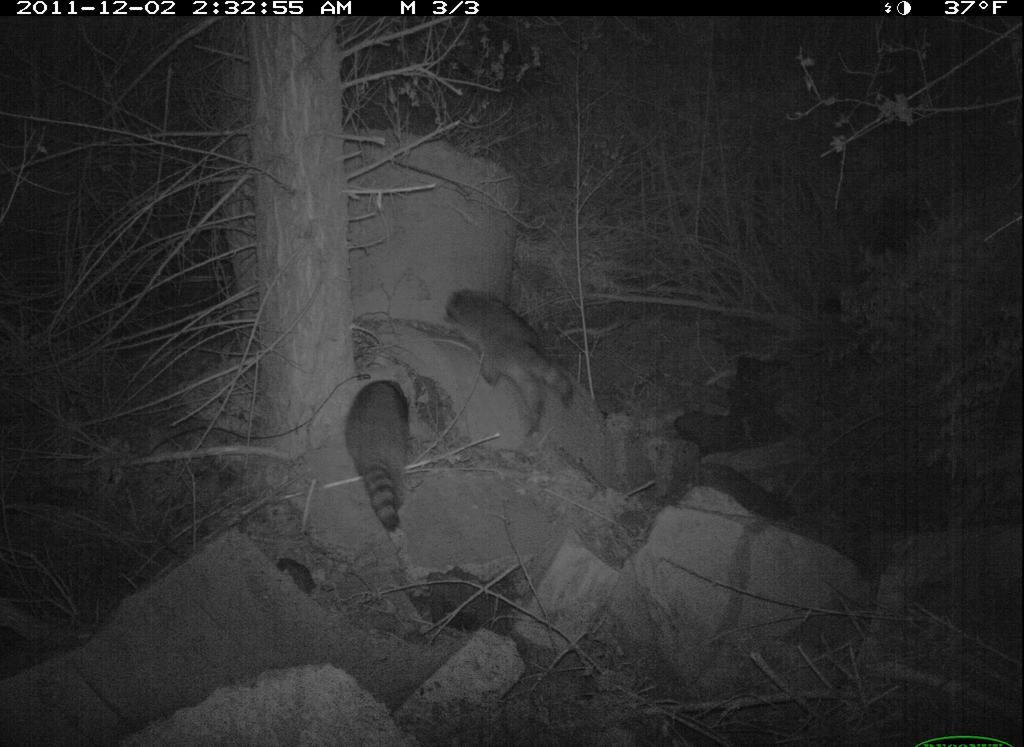raccoon: (447, 267, 594, 461), (341, 364, 425, 539)
